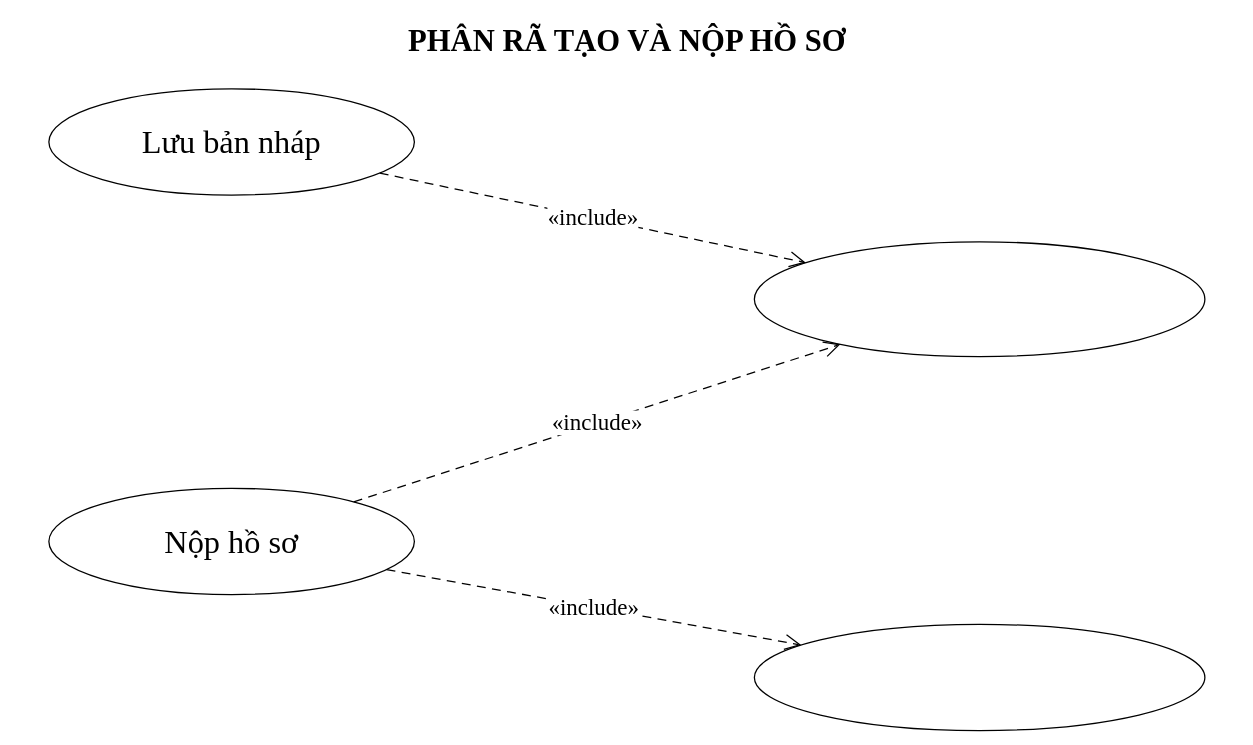
Image size: 1253x745. Some labels were removed from this diagram. Here are the shapes that lost their labels. From the top down, the centre of each, then its label:
point (979, 299): Ghi nhận dữ liệu kê khai và tài liệu
point (979, 677): Kiểm tra thành phần bắt buộc
